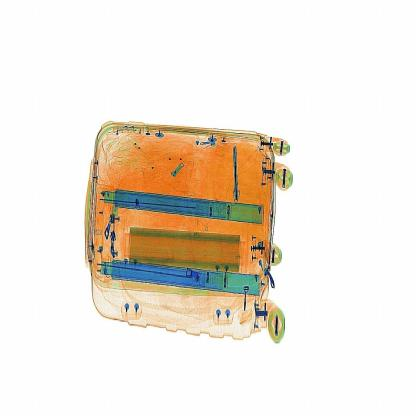knife: (231, 144, 242, 204)
